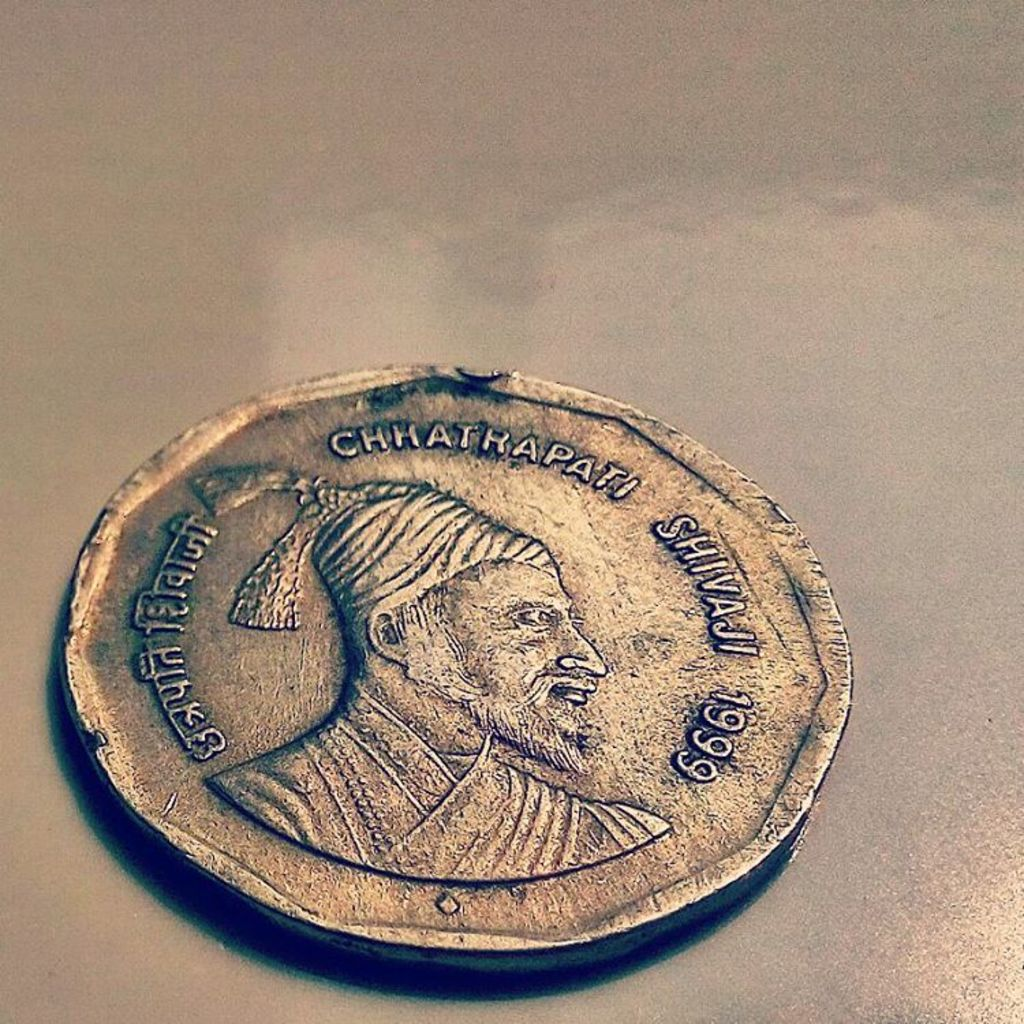Coin: (60, 360, 849, 963)
